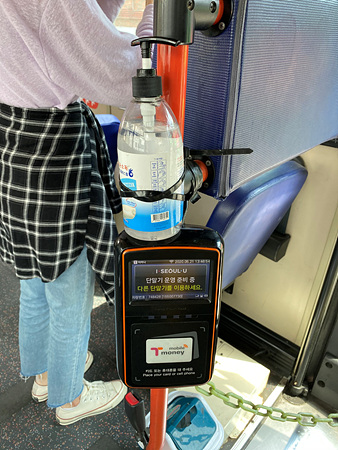terminal: (121, 236, 219, 389)
